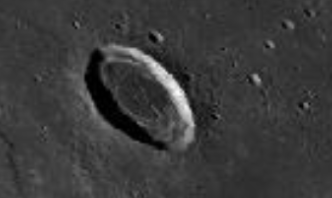crater: (11, 41, 226, 182)
